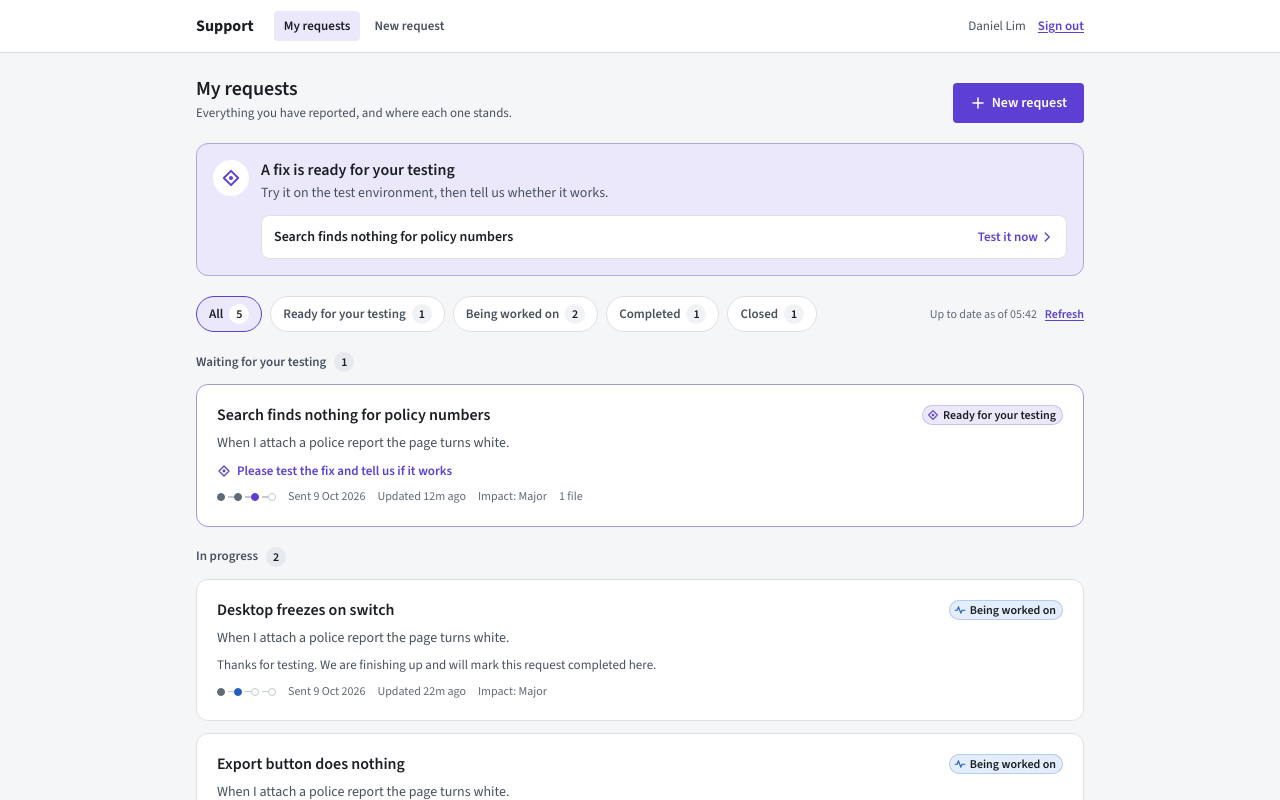
it: portal home › filters by status from the counts
Click the button "Closed 1": point(772, 314) left=728, top=296, right=817, bottom=332
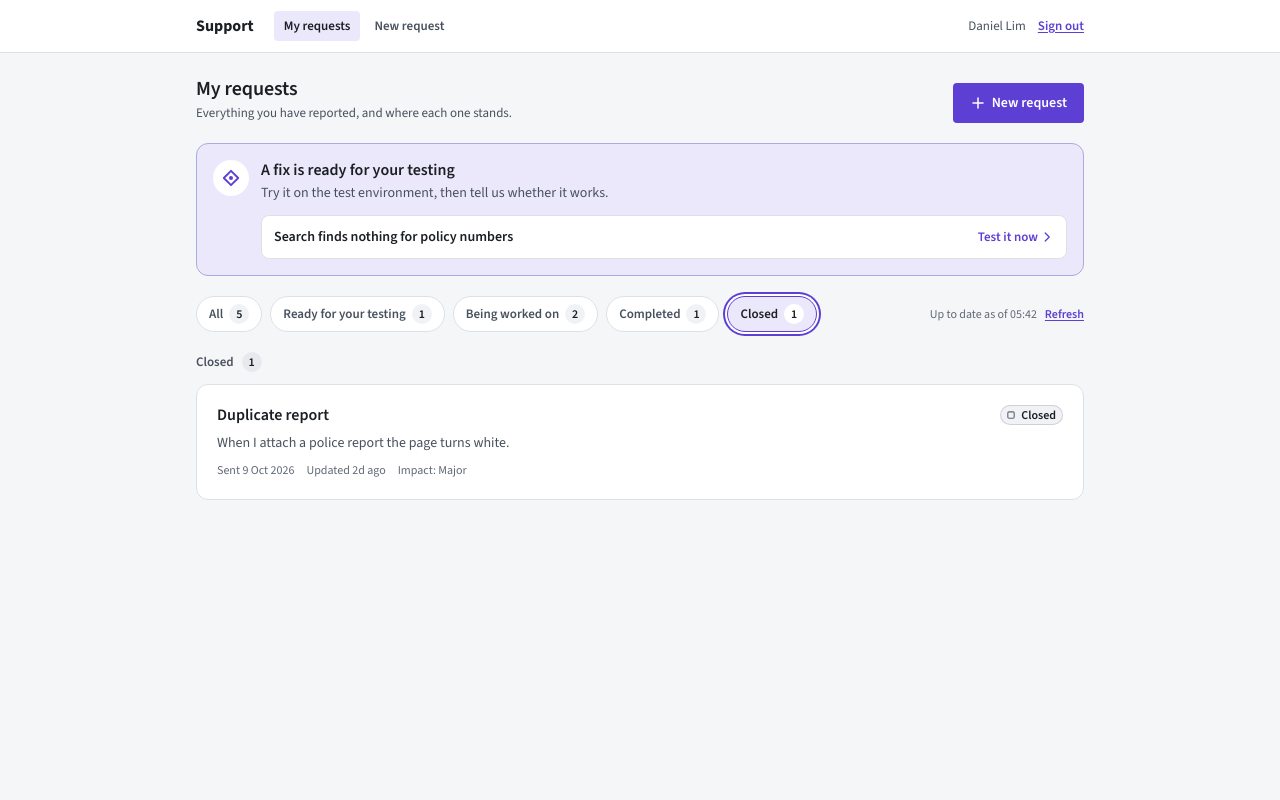
Result: the link "Export button does nothing" is gone
Click the button "All 5": point(229, 314) left=196, top=296, right=262, bottom=332
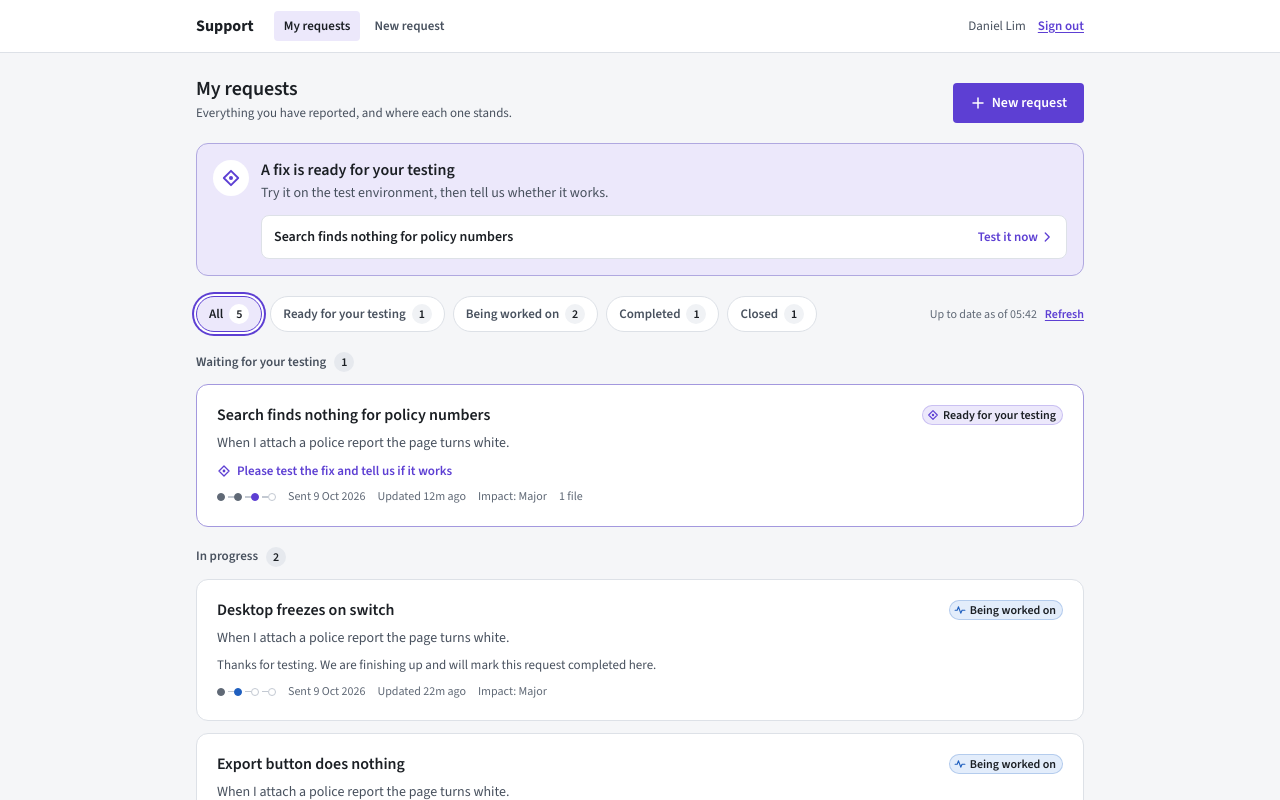
Result: the link "Export button does nothing" is shown at left=217, top=753, right=405, bottom=774
